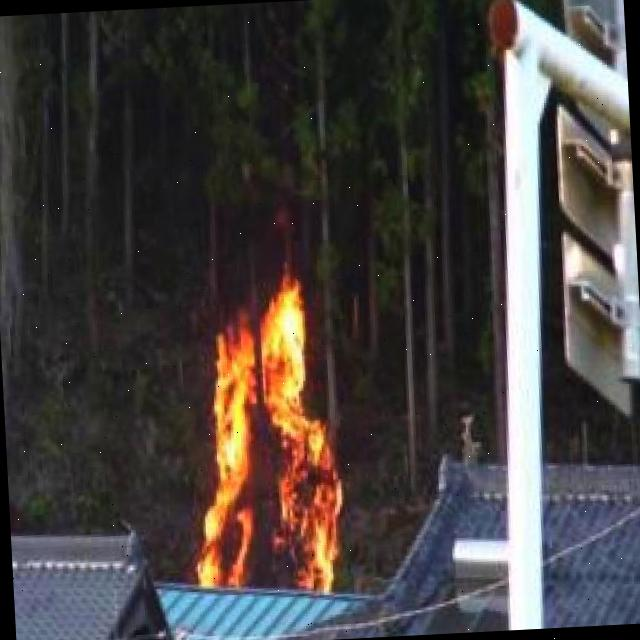fire: (182, 294, 352, 601)
